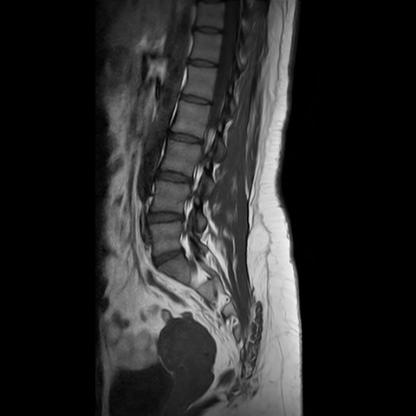Disc Bulgerotation: (143, 211, 184, 228)
Disc Protrusionrotation: (153, 249, 185, 266)
